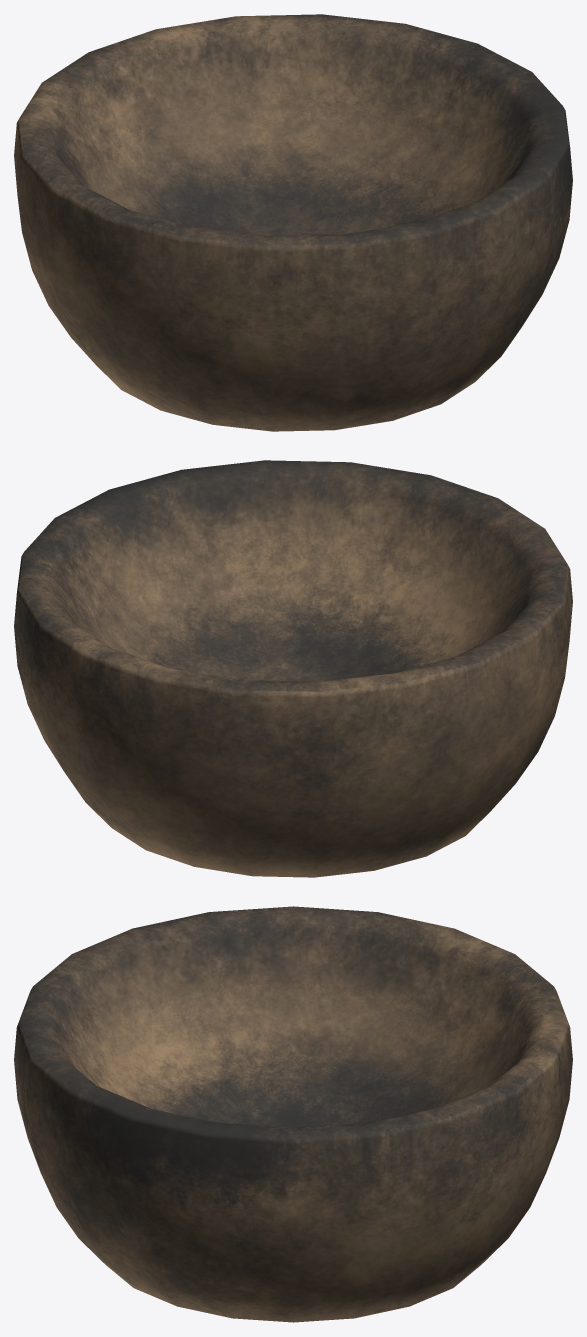
The model's file is brazier_bowl.gltf.
The picture shows the model from 3 angles, top to bottom: view 1: azimuth 30°, elevation 25°; view 2: azimuth 150°, elevation 25°; view 3: azimuth 270°, elevation 25°; orthographic projection.
Visible parts, largest first — view 1: brazier_bowl; view 2: brazier_bowl; view 3: brazier_bowl.
Boxes of the visible parts, x1,y1,x2,y2 form: brazier_bowl: (14,14,572,431); brazier_bowl: (14,460,572,877); brazier_bowl: (14,906,572,1322).
Size of the model in its own units: 1.62 by 0.7 by 1.62.
1 material, 1 textured.
